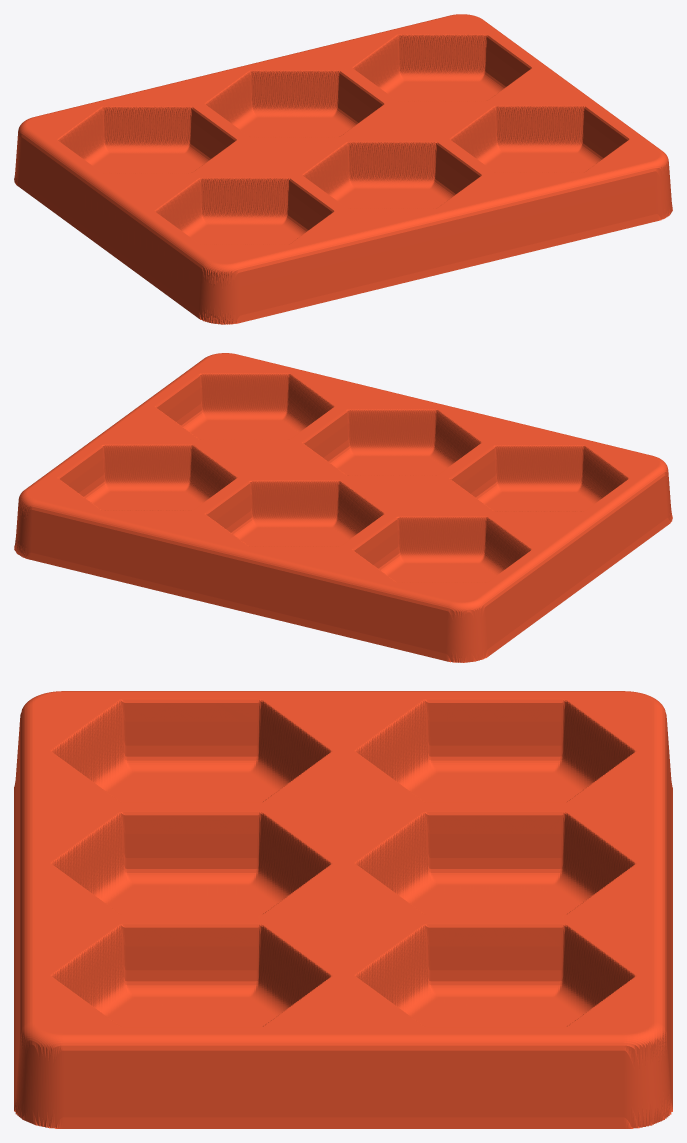
The model's file is mold.glb.
3 renders of one model, top to bottom at view 1: azimuth 30°, elevation 25°; view 2: azimuth 150°, elevation 25°; view 3: azimuth 270°, elevation 25°, orthographic. The views are drawn at different scales.
Parts seen in each view (by area): view 1: geometry_0; view 2: geometry_0; view 3: geometry_0.
Boxes of the visible parts, x1,y1,x2,y2 form: geometry_0: [14, 14, 672, 324]; geometry_0: [14, 353, 672, 662]; geometry_0: [14, 691, 672, 1128].
Bounding box in the file's own units: 0.1559 × 0.0175 × 0.1211.
